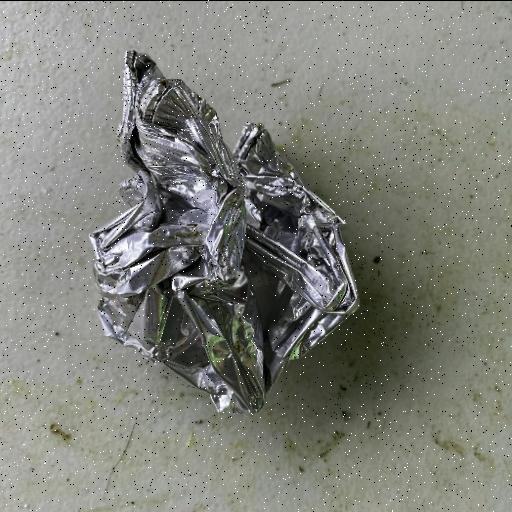Metal: (87, 48, 361, 416)
